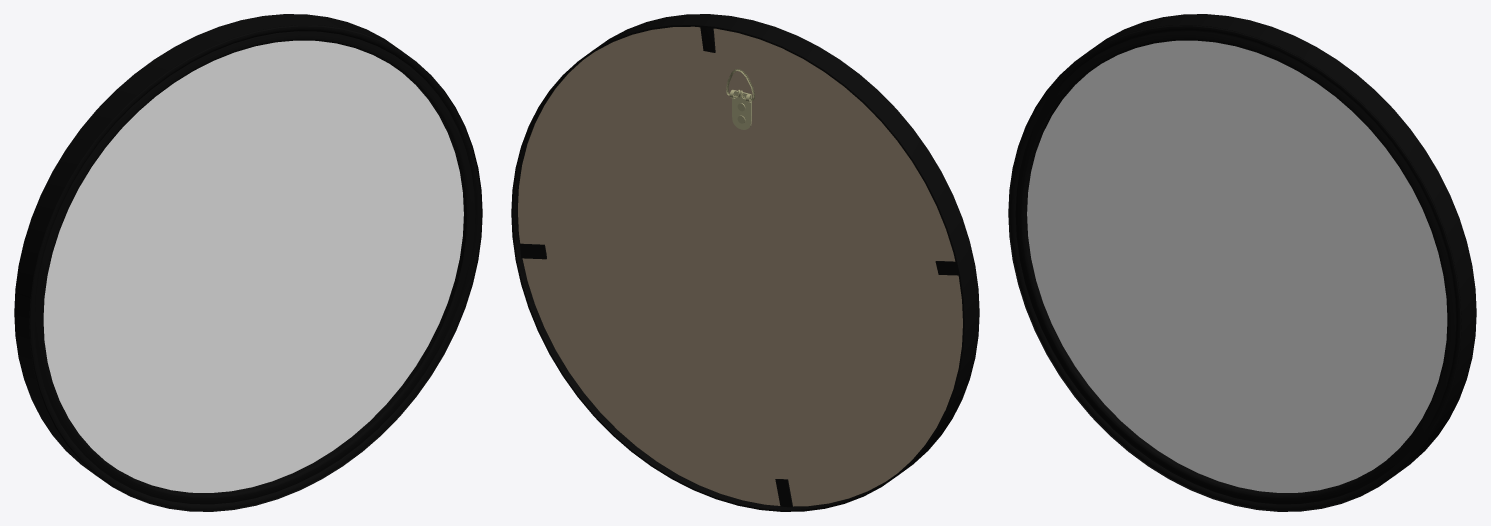
Rendered from hugo-mirror.glb.
The picture shows the model from 3 angles, left to right: view 1: azimuth 30°, elevation 25°; view 2: azimuth 150°, elevation 25°; view 3: azimuth 330°, elevation 25°; orthographic projection.
Visible parts, largest first — view 1: Object_0; view 2: Object_0; view 3: Object_0.
Part boxes in pixels (left/top/right/bottom): Object_0: left=14, top=14, right=482, bottom=511; Object_0: left=511, top=14, right=979, bottom=511; Object_0: left=1008, top=14, right=1476, bottom=511.
Size of the model in its own units: 0.8 by 0.8 by 0.046.
1 material, 1 textured.
